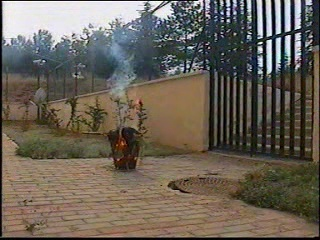smoke: (94, 31, 138, 96)
